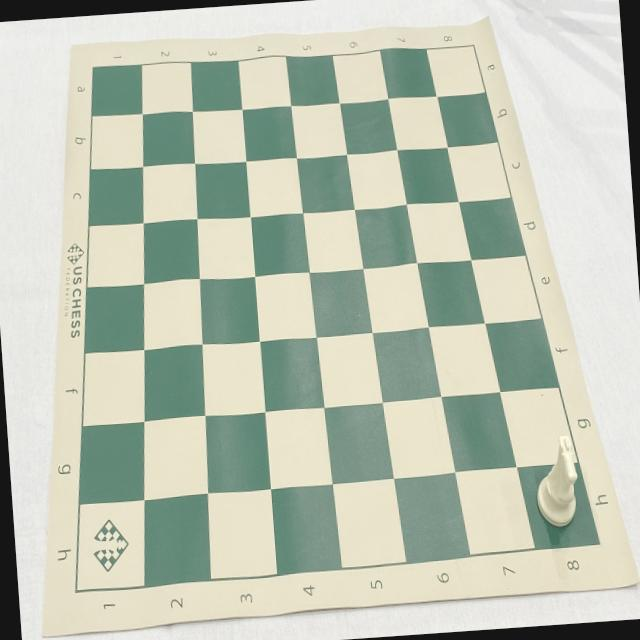white-knight: (532, 435, 582, 530)
